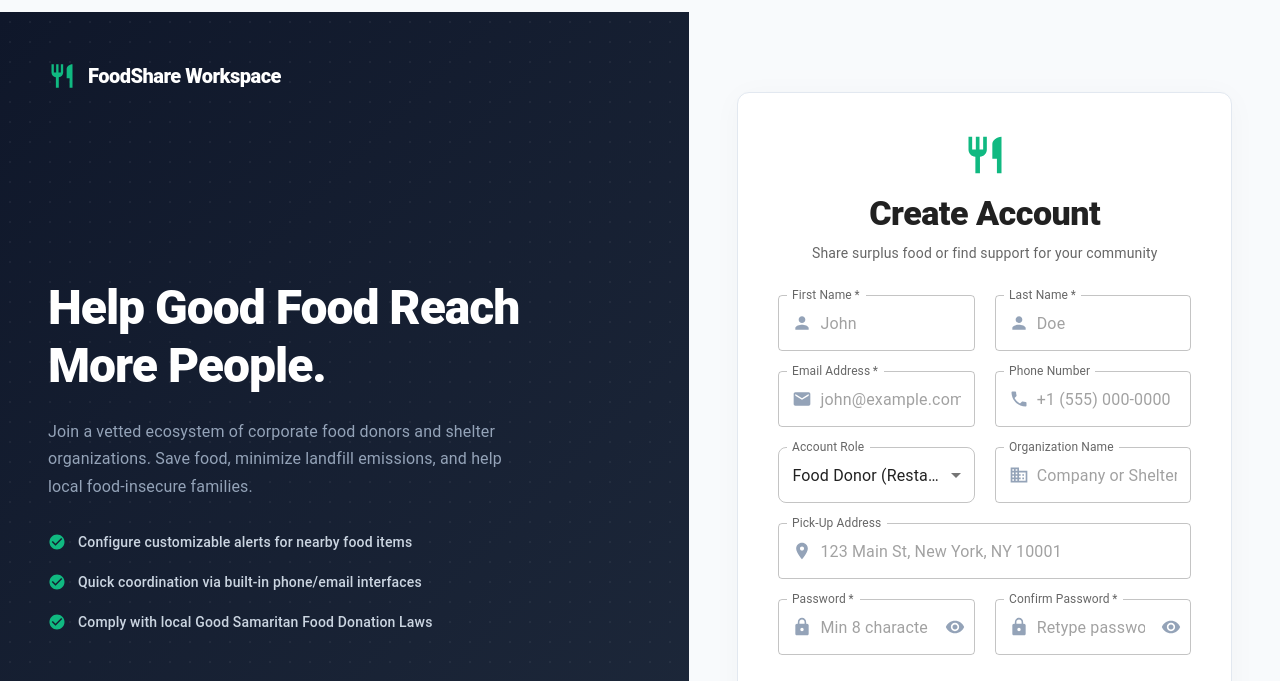
Test case: registration explains mismatched passwords inline without submitting
In the field labelled "First Name *": (898, 323) [820, 295, 975, 351], type "Asha"
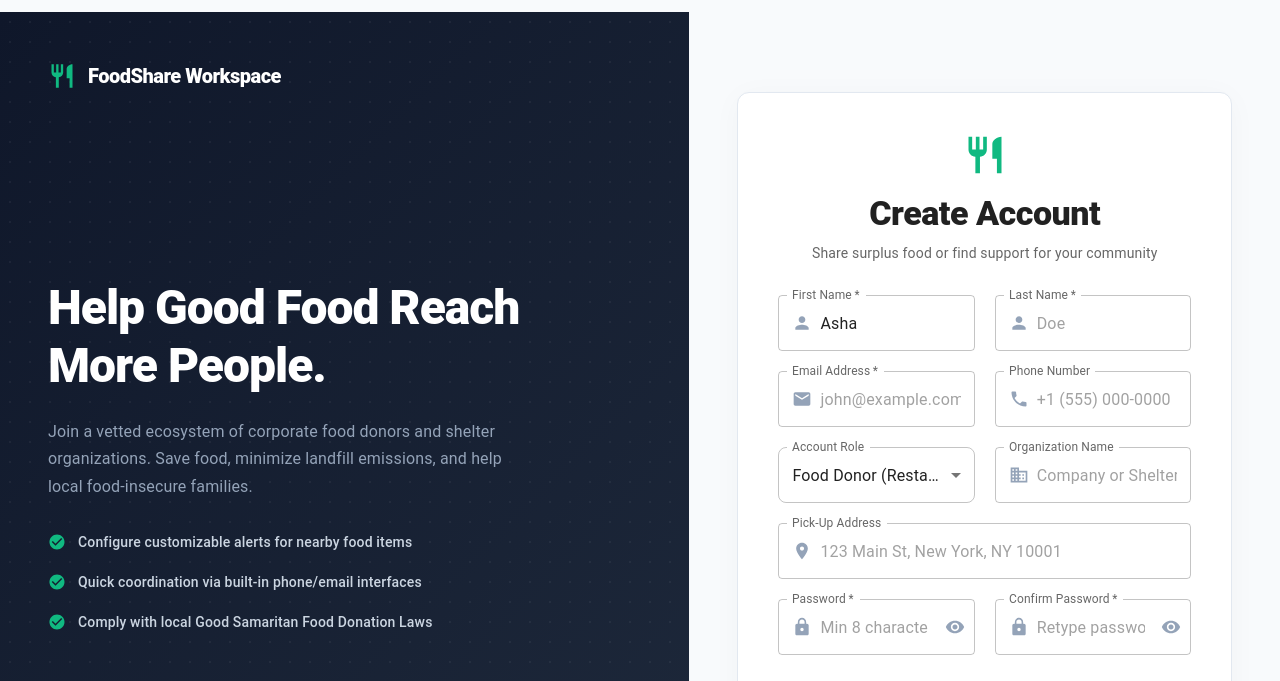
In the field labelled "Last Name *": (1114, 323) [1037, 295, 1191, 351], type "Patel"
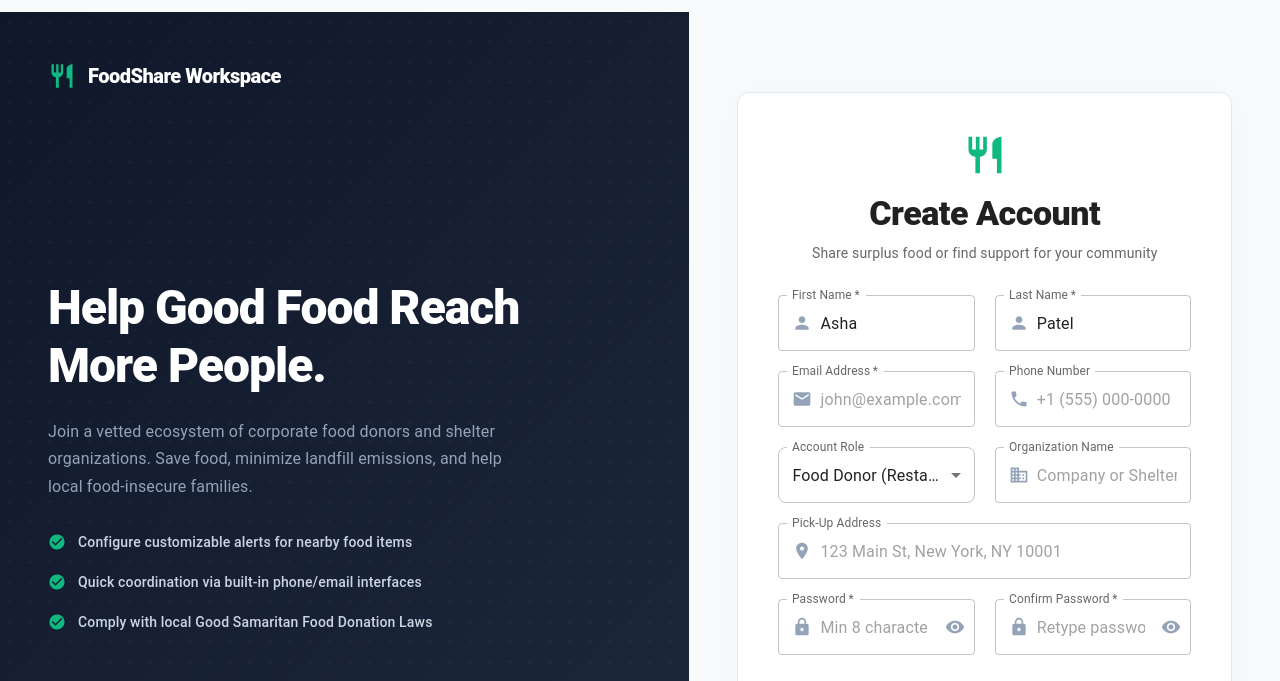
In the field labelled "Email Address *": (898, 399) [820, 371, 975, 427], type "person@example.com"
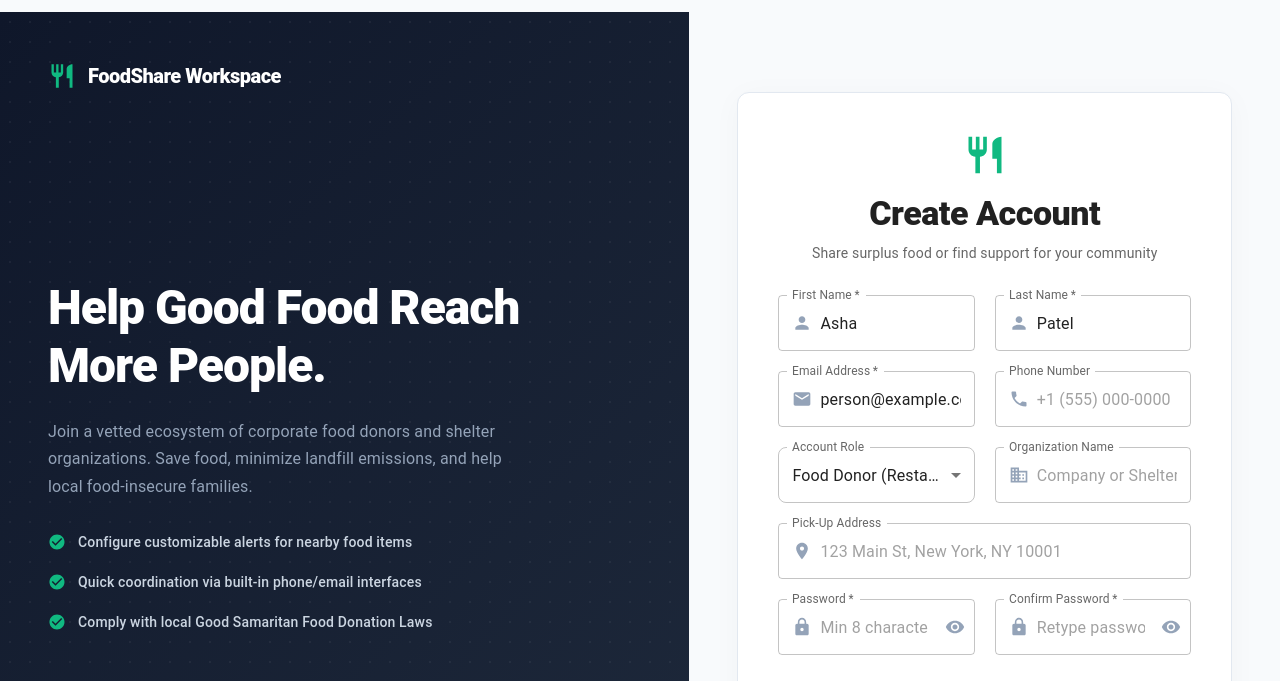
In the password field labelled "Password *": (875, 627) [820, 599, 929, 655], type "Strong-password-123"
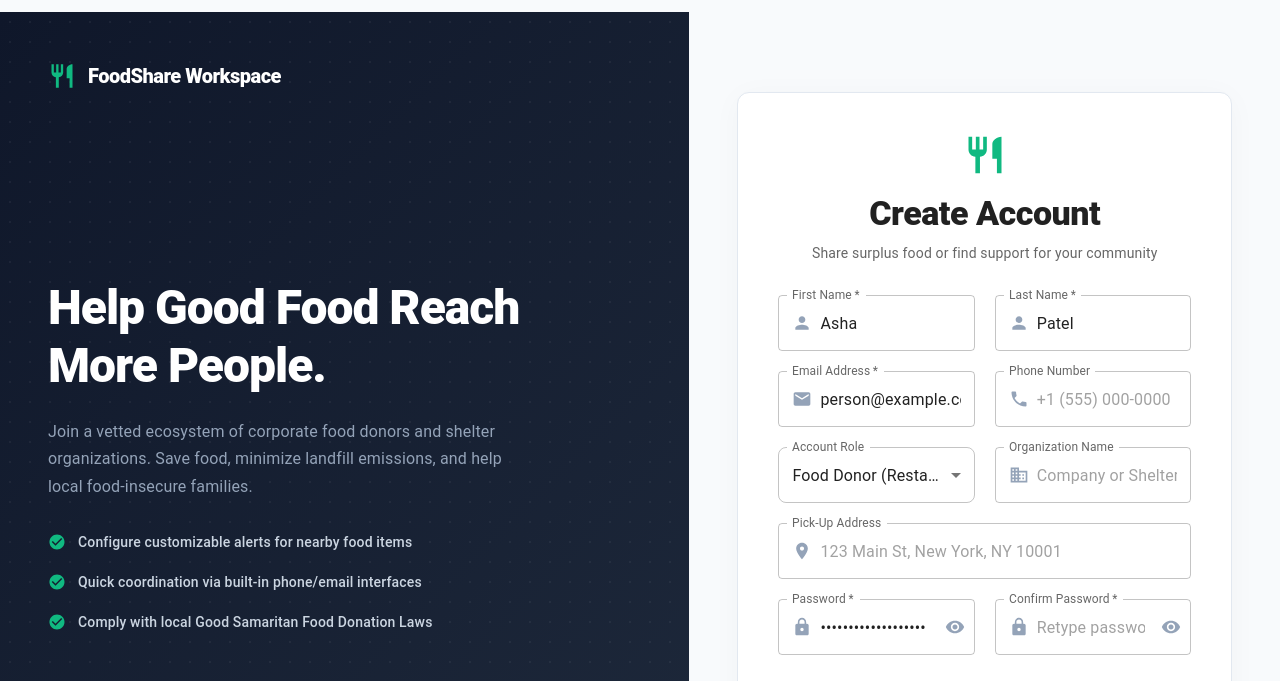
In the password field labelled "Confirm Password *": (1091, 627) [1037, 599, 1145, 655], type "different-password"
(page scrolled)
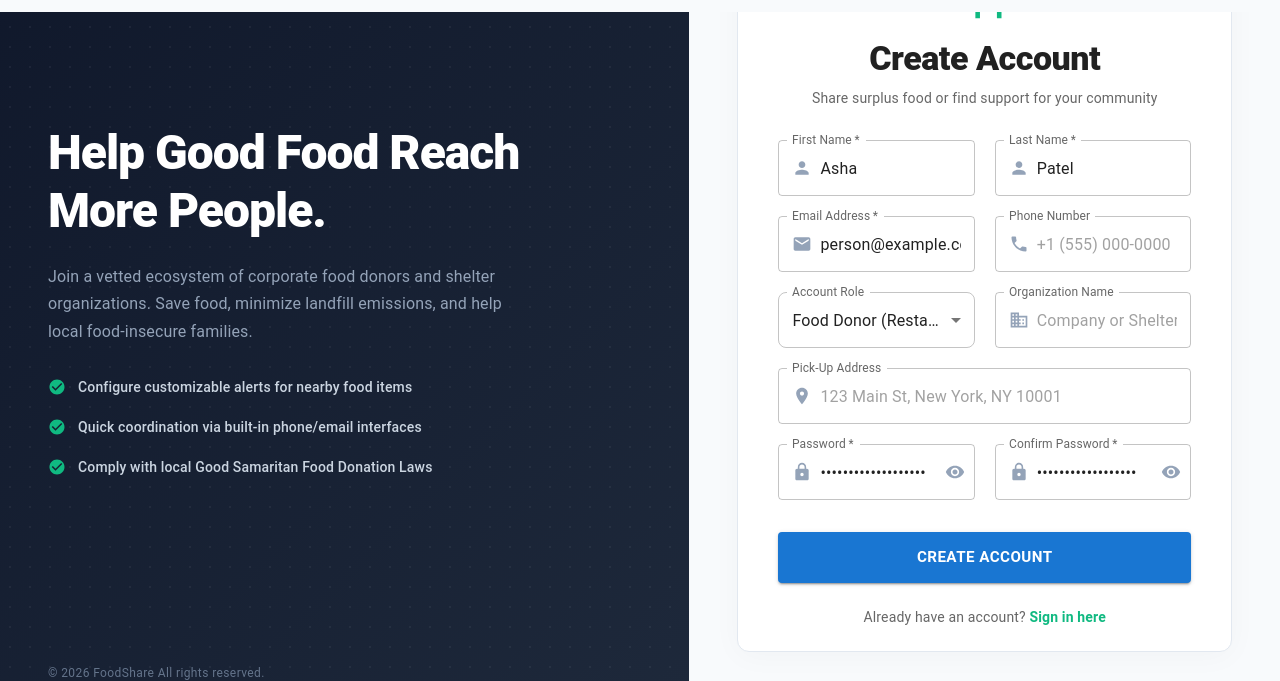
Click the button "Create Account": (985, 557) [778, 532, 1191, 583]
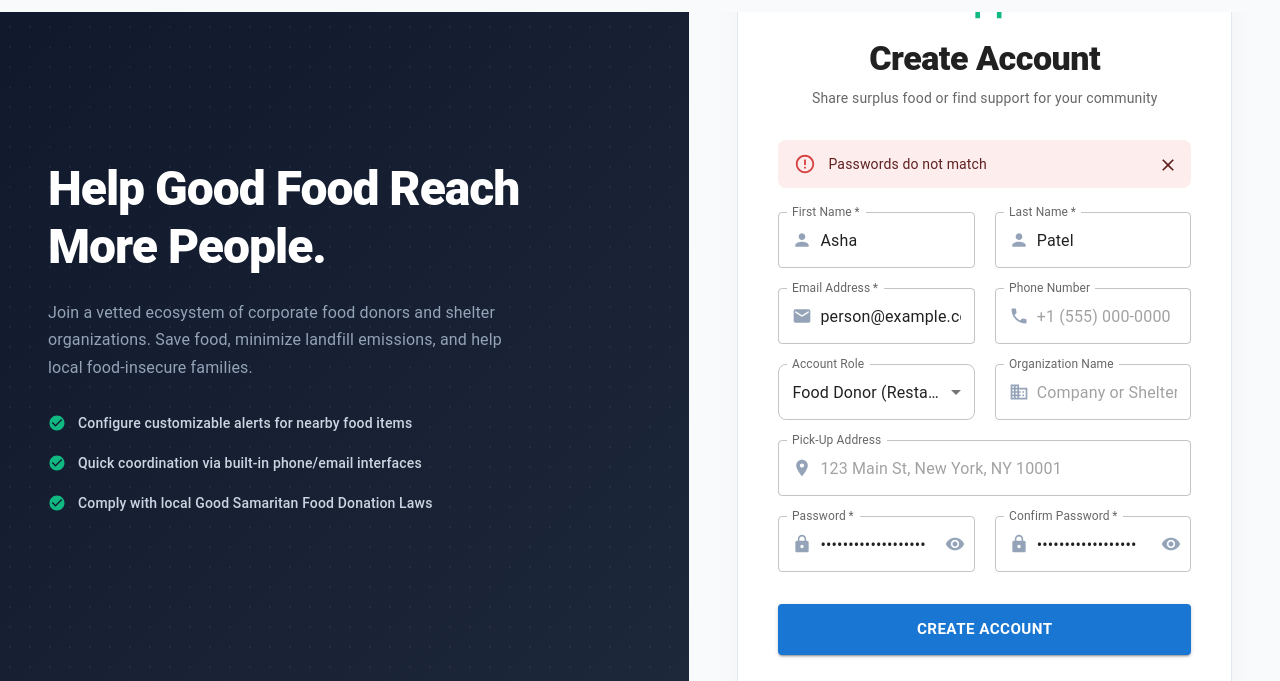
expect the message reads "Passwords do not match": met, box [828, 156, 987, 172]
